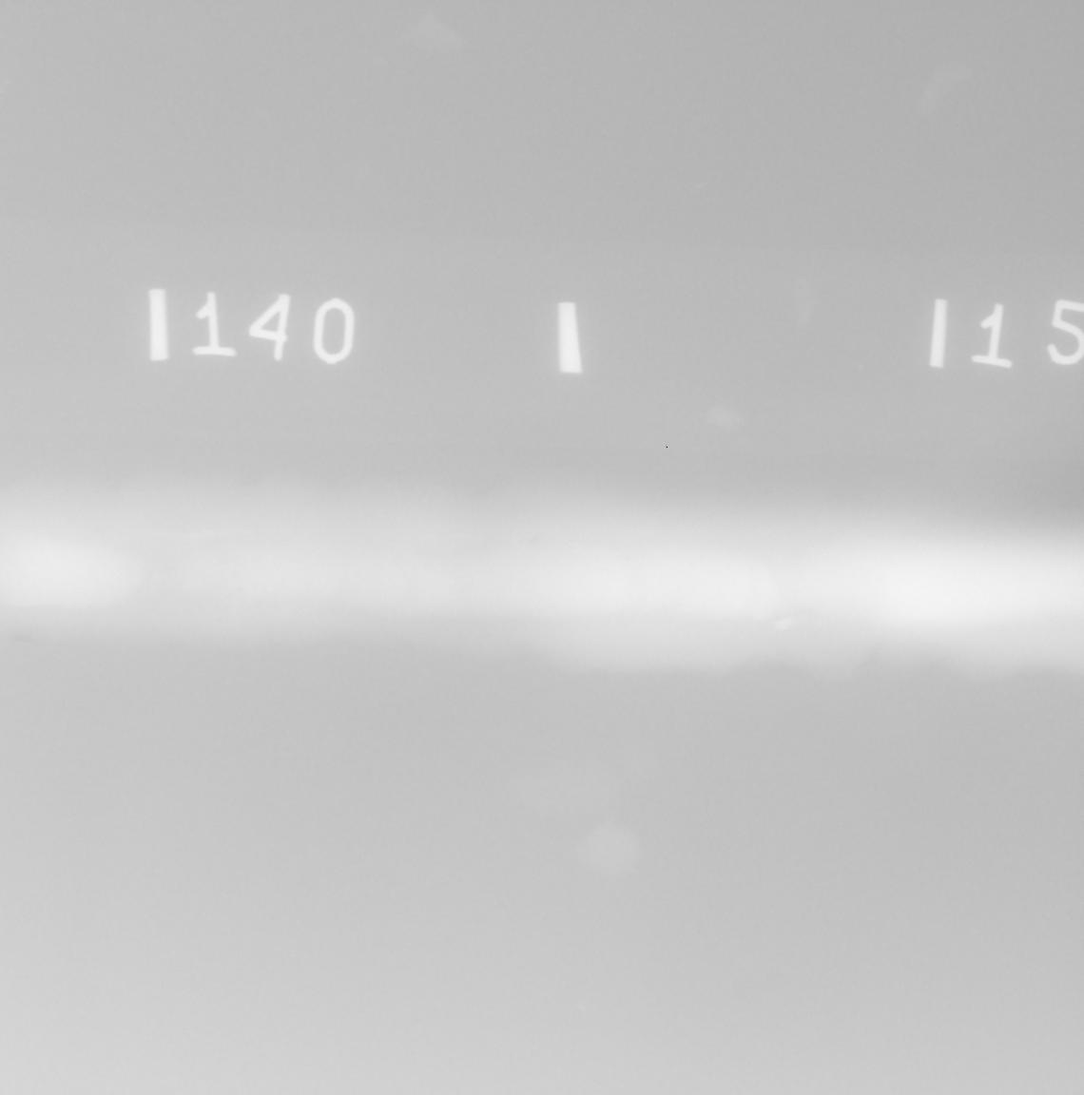Pore/Porosity: (531, 536, 538, 544), (236, 590, 242, 593)
Undercut: (13, 633, 31, 642)
